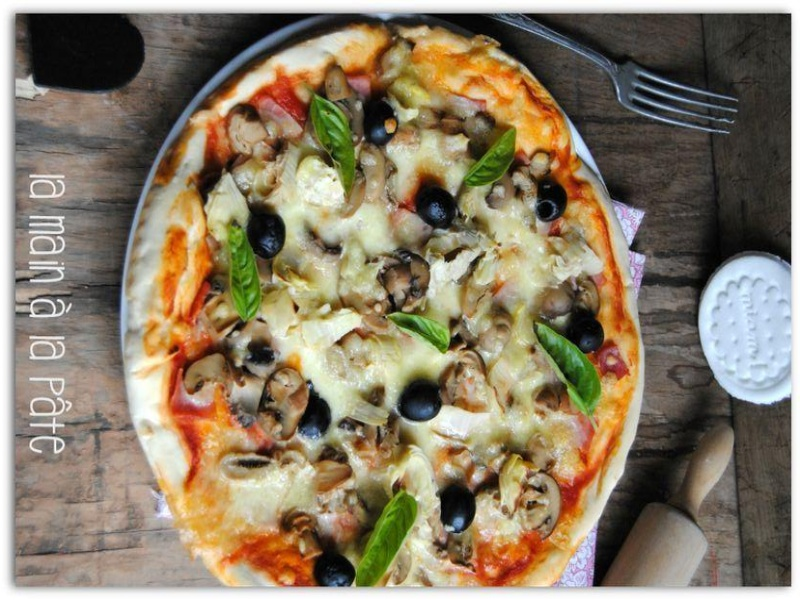champignon: (171, 349, 247, 409), (519, 466, 567, 539)
olive: (242, 199, 295, 265), (428, 482, 486, 541), (407, 179, 467, 235), (393, 375, 452, 427), (290, 385, 342, 444), (555, 305, 611, 357), (311, 542, 366, 593), (358, 92, 402, 154), (534, 173, 575, 231)
